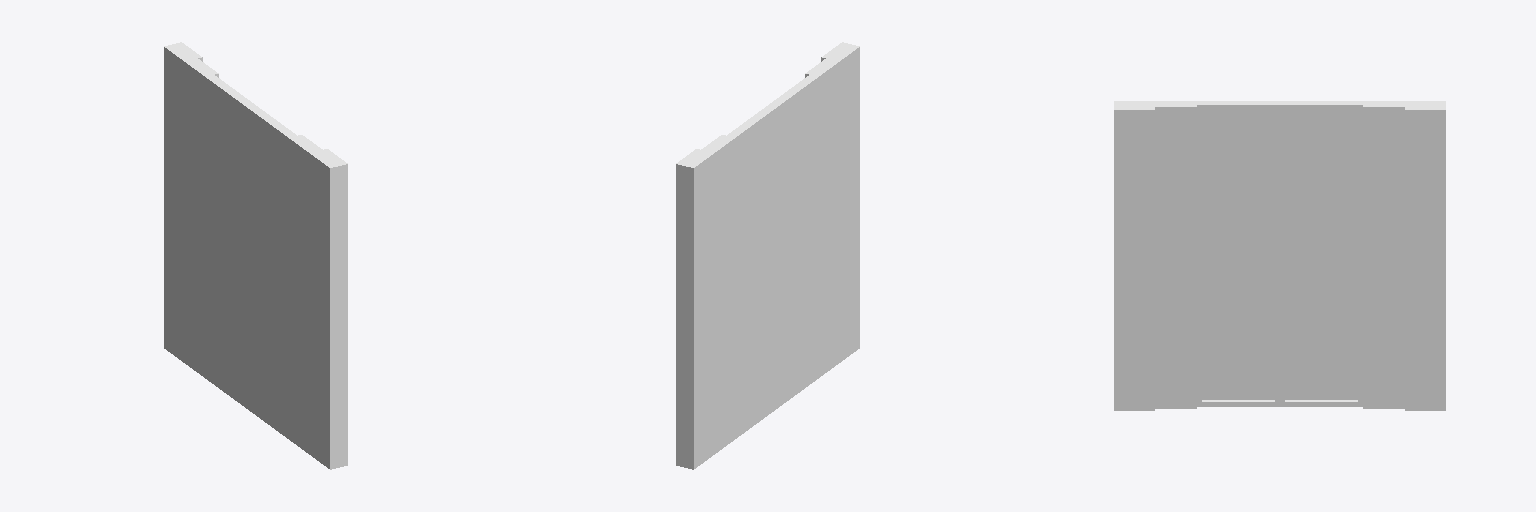
The model's file is old_brick_peach_wall_m.obj.
3 renders of one model, left to right at view 1: azimuth 30°, elevation 25°; view 2: azimuth 150°, elevation 25°; view 3: azimuth 270°, elevation 25°, orthographic.
Bounding box in the file's own units: 4 × 64 × 64.